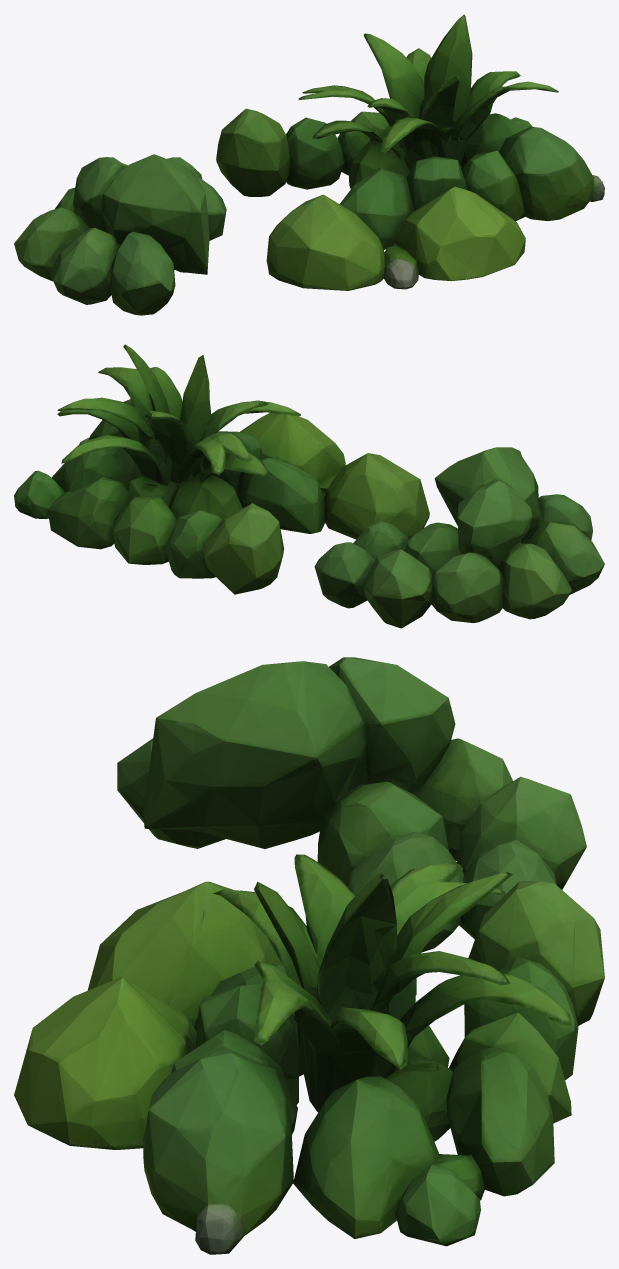
Rendered from bush.glb.
3 renders of one model, top to bottom at view 1: azimuth 30°, elevation 25°; view 2: azimuth 150°, elevation 25°; view 3: azimuth 270°, elevation 25°, orthographic. The views are drawn at different scales.
Visible parts, largest first — view 1: world; view 2: world; view 3: world.
Part boxes in pixels (box(x1,y1,x2,y2)): world: box(14, 14, 604, 315); world: box(14, 344, 604, 628); world: box(14, 657, 604, 1254).
Bounding box in the file's own units: 0.9942 × 0.311 × 0.5363.
Materials: 1 (1 with a texture image).
